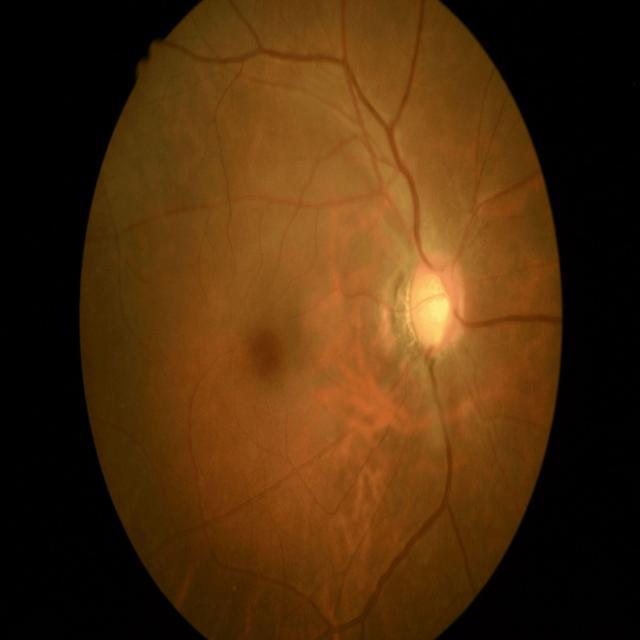cup: (416, 268, 454, 346)
disk: (411, 252, 465, 352)
